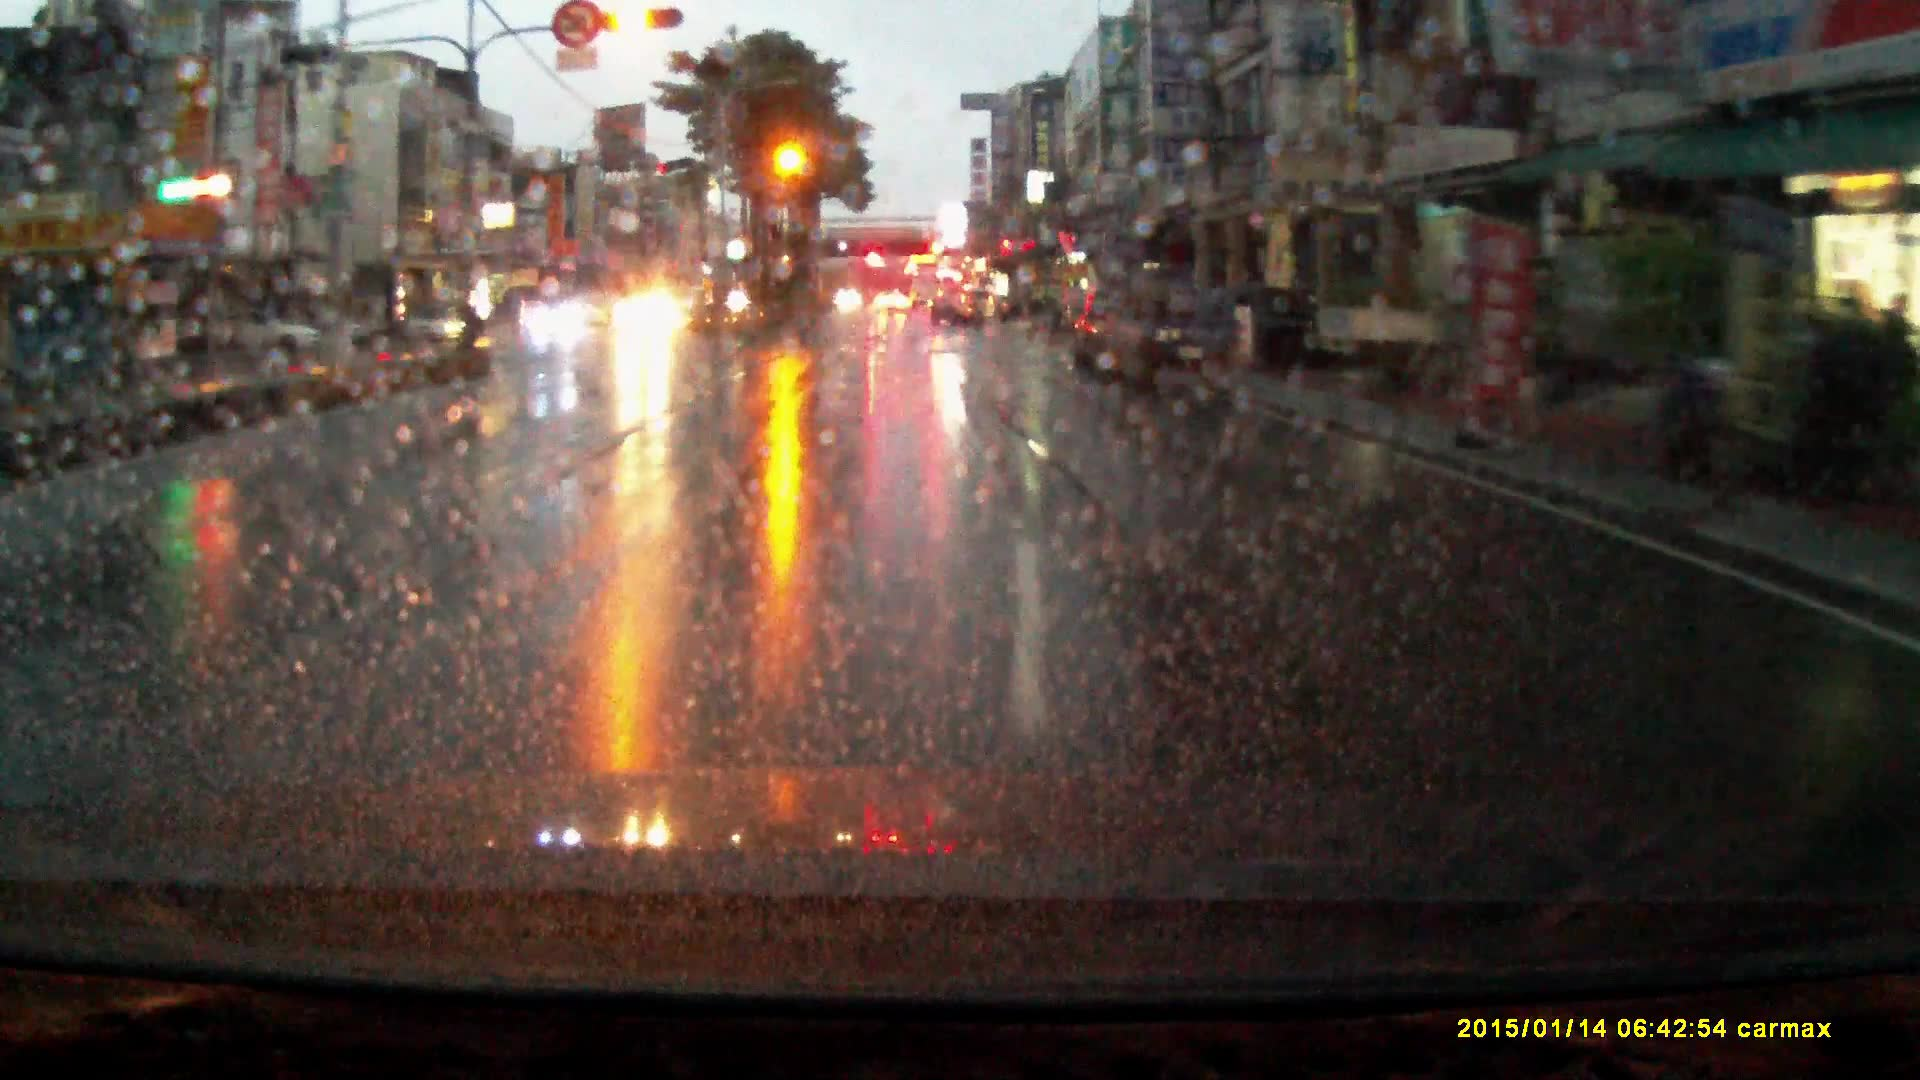vehicle: (1102, 268, 1244, 396), (1319, 309, 1497, 377), (202, 313, 316, 359), (609, 290, 684, 345), (1075, 280, 1113, 376), (295, 313, 375, 353), (931, 285, 997, 330), (405, 302, 468, 345), (531, 302, 592, 344), (911, 265, 945, 309), (874, 293, 913, 318)
